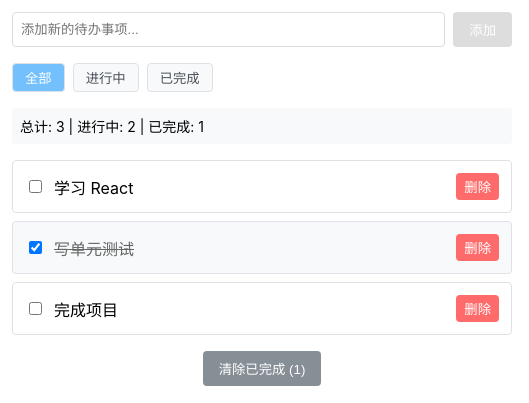
TodoList组件 › 过滤功能 › 应该正确过滤显示进行中的待办事项
Click the button with test id "filter-active": (106, 78) [73,63,139,92]
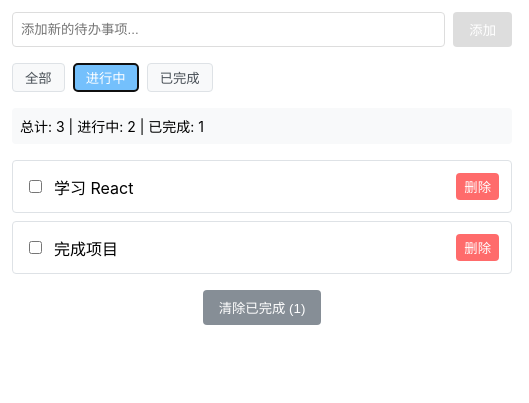
Expected: the text "学习 React" is shown, [54,178,133,198]
Expected: the text "写单元测试" is gone
